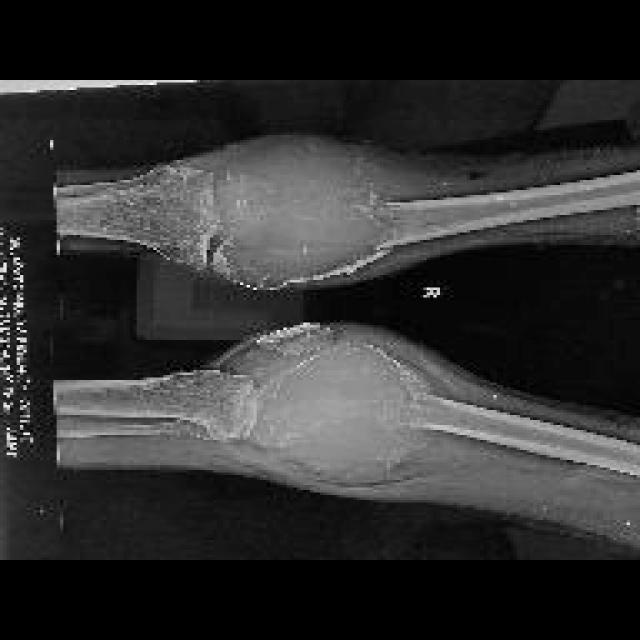bone-cancer: (208, 147, 390, 288), (249, 343, 427, 478)
